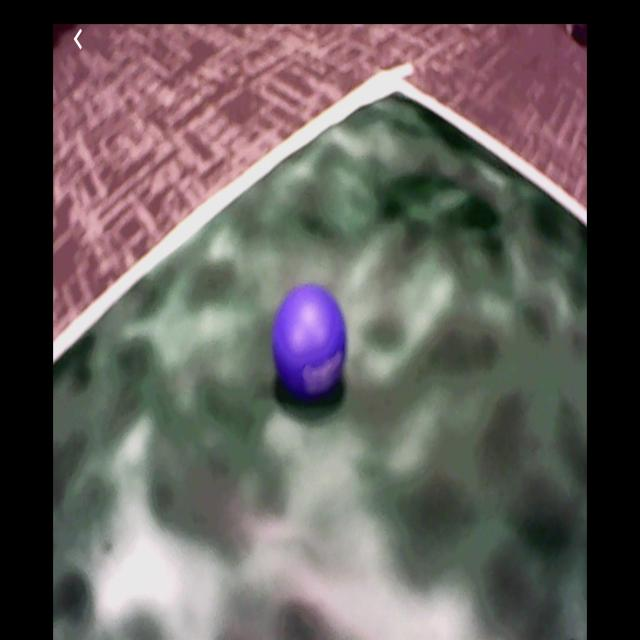ball: (270, 286, 353, 403)
